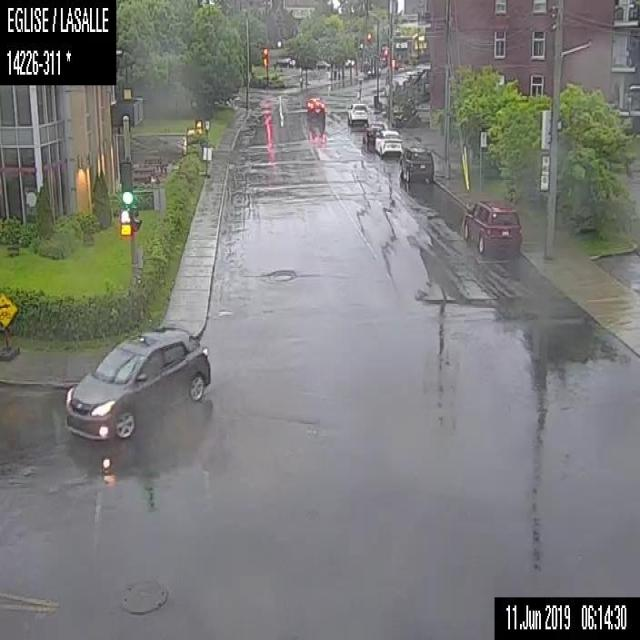vehicle: (63, 323, 212, 441), (462, 196, 522, 257), (398, 146, 434, 184), (373, 127, 402, 155), (363, 120, 384, 148), (344, 101, 368, 125), (306, 95, 326, 116), (275, 56, 295, 66), (314, 59, 330, 70)
